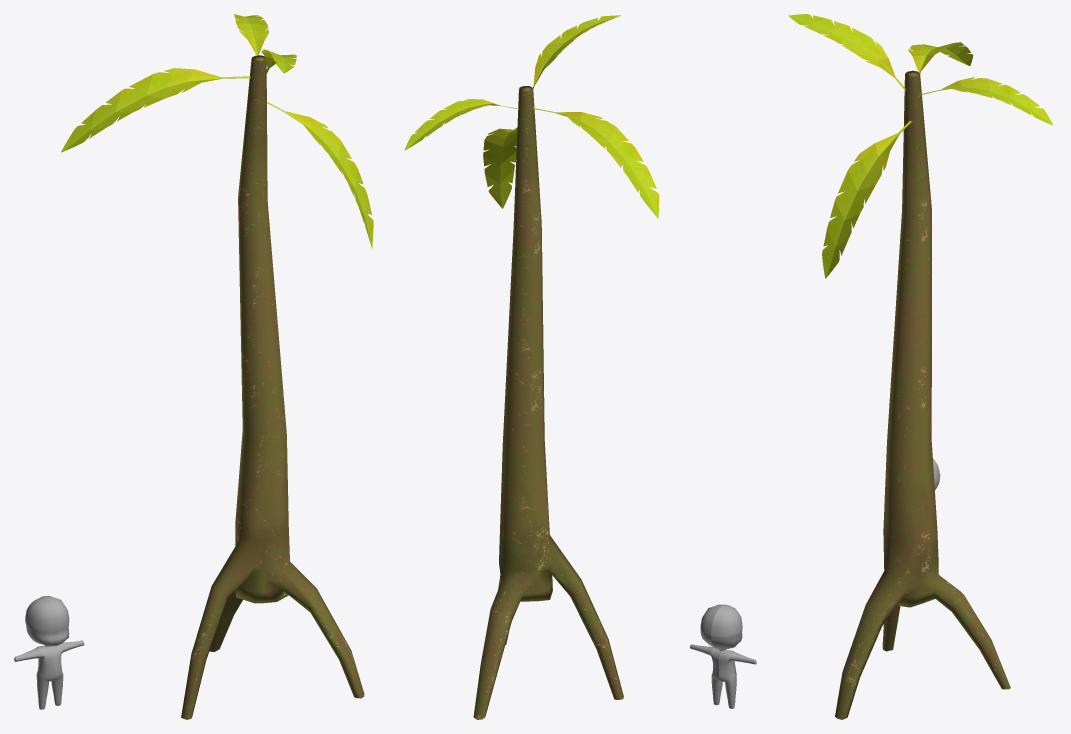
Rendered from Coqueiro_01_MenosFolhas.fbx.
3 renders of one model, left to right at view 1: azimuth 30°, elevation 25°; view 2: azimuth 150°, elevation 25°; view 3: azimuth 270°, elevation 25°, orthographic. The views are drawn at different scales.
Visible parts, largest first — view 1: polySurface20; view 2: polySurface20; view 3: polySurface20.
Part boxes in pixels (x1=…): polySurface20: x1=14, y1=14, x2=373, y2=719; polySurface20: x1=404, y1=15, x2=756, y2=719; polySurface20: x1=788, y1=14, x2=1053, y2=719.
Size of the model in its own units: 8.7 by 17.46 by 6.53.
